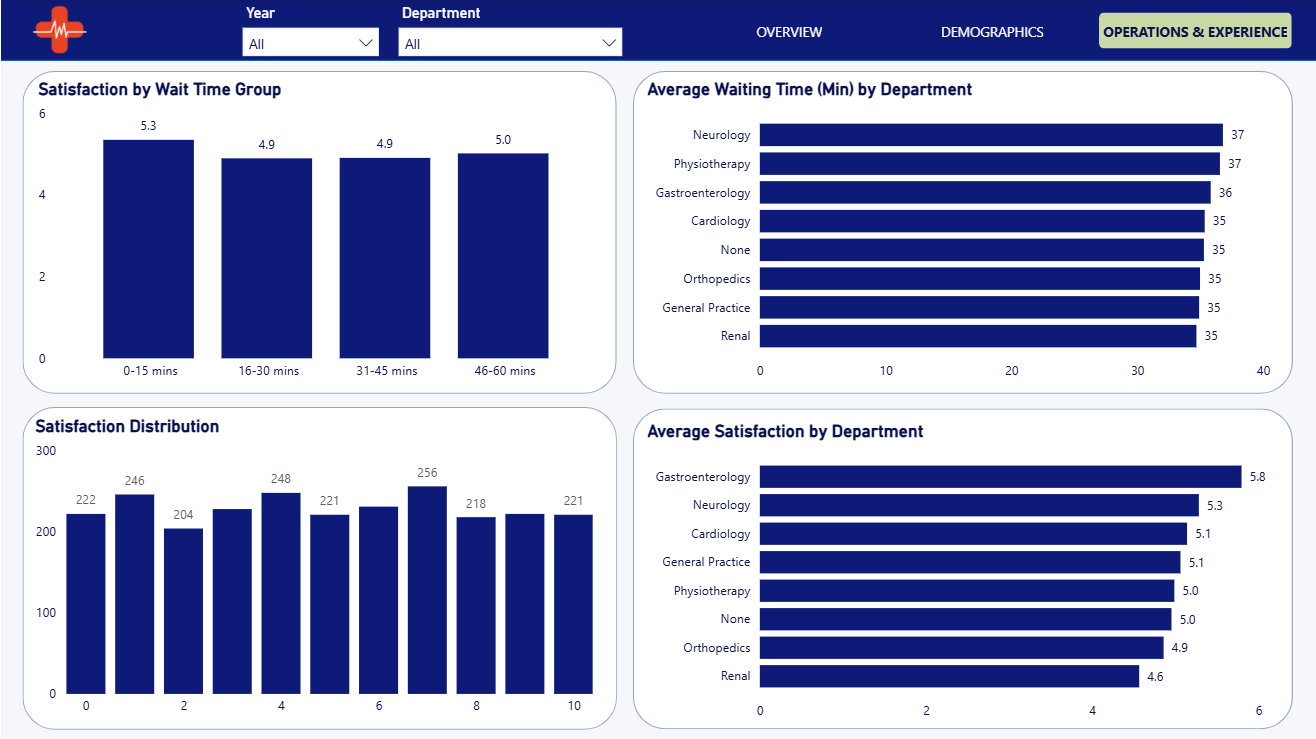

Layout of this report page (visuals, bound fields, positions):
{"tool":"powerbi","page":{"name":"OPERATIONS & EXPERIENCE","canvas":[1280,720],"ordinal":2},"visuals":[{"type":"shape","box":[0,2,1280.7,718.4],"z":0},{"type":"shape","box":[21.9,69.8,576.5,313.2],"z":1000},{"type":"shape","box":[21.8,396.5,576.9,313.2],"z":2000},{"type":"shape","box":[614.4,69.8,640.3,313.2],"z":3000},{"type":"shape","box":[614.4,397,640.3,311.2],"z":4000},{"type":"shape","box":[0,0,1280.7,60],"z":5000},{"type":"pageNavigator","box":[672,13,581.3,35.6],"z":6000},{"type":"barChart","title":"Average Waiting Time (Min) by Department ","fields":{"Category":["Hospital ER_Data.Department Referral"],"Y":["Hospital ER_Data.Average Waiting Time (Min)"]},"box":[622.4,77.8,614.4,301.2],"z":7000},{"type":"clusteredColumnChart","title":"Satisfaction Distribution","fields":{"Category":["Hospital ER_Data.Patient Satisfaction Score"],"Y":["Hospital ER_Data.Total patients"]},"box":[29.7,404.4,551.1,299.4],"z":8000},{"type":"clusteredColumnChart","title":"Satisfaction by Wait Time Group","fields":{"Category":["Hospital ER_Data.Wait time group"],"Y":["Hospital ER_Data.Average Satisfaction Score"]},"box":[31.9,77.8,554.6,301.2],"z":9000},{"type":"barChart","title":"Average Satisfaction by Department ","fields":{"Y":["Hospital ER_Data.Average Satisfaction Score"],"Category":["Hospital ER_Data.Department Referral"]},"box":[622.4,408.9,614.4,299.2],"z":10000},{"type":"slicer","fields":{"Values":["Hospital ER_Data.Department Referral"]},"box":[377.3,0,236.4,59.9],"z":11000},{"type":"slicer","fields":{"Values":["Hospital ER_Data.Year"]},"box":[225,0,151.7,60],"z":12000},{"type":"image","box":[31.7,1.7,51.7,56.7],"z":13000}]}

Visuals, with their boxes in screenshot pixels (x1, y1, x2, y2), scaled from the page's 1280x720 canvas onto the 1316x739 screenshot:
shape: (x1=0, y1=2, x2=1315, y2=738)
shape: (x1=23, y1=72, x2=615, y2=393)
shape: (x1=22, y1=407, x2=616, y2=728)
shape: (x1=632, y1=72, x2=1290, y2=393)
shape: (x1=632, y1=407, x2=1290, y2=727)
shape: (x1=0, y1=0, x2=1315, y2=62)
pageNavigator: (x1=691, y1=13, x2=1289, y2=50)
"Average Waiting Time (Min) by Department " barChart: (x1=640, y1=80, x2=1272, y2=389)
"Satisfaction Distribution" clusteredColumnChart: (x1=31, y1=415, x2=597, y2=722)
"Satisfaction by Wait Time Group" clusteredColumnChart: (x1=33, y1=80, x2=603, y2=389)
"Average Satisfaction by Department " barChart: (x1=640, y1=420, x2=1272, y2=727)
slicer - Hospital ER_Data.Department Referral: (x1=388, y1=0, x2=631, y2=61)
slicer - Hospital ER_Data.Year: (x1=231, y1=0, x2=387, y2=62)
image: (x1=33, y1=2, x2=86, y2=60)
